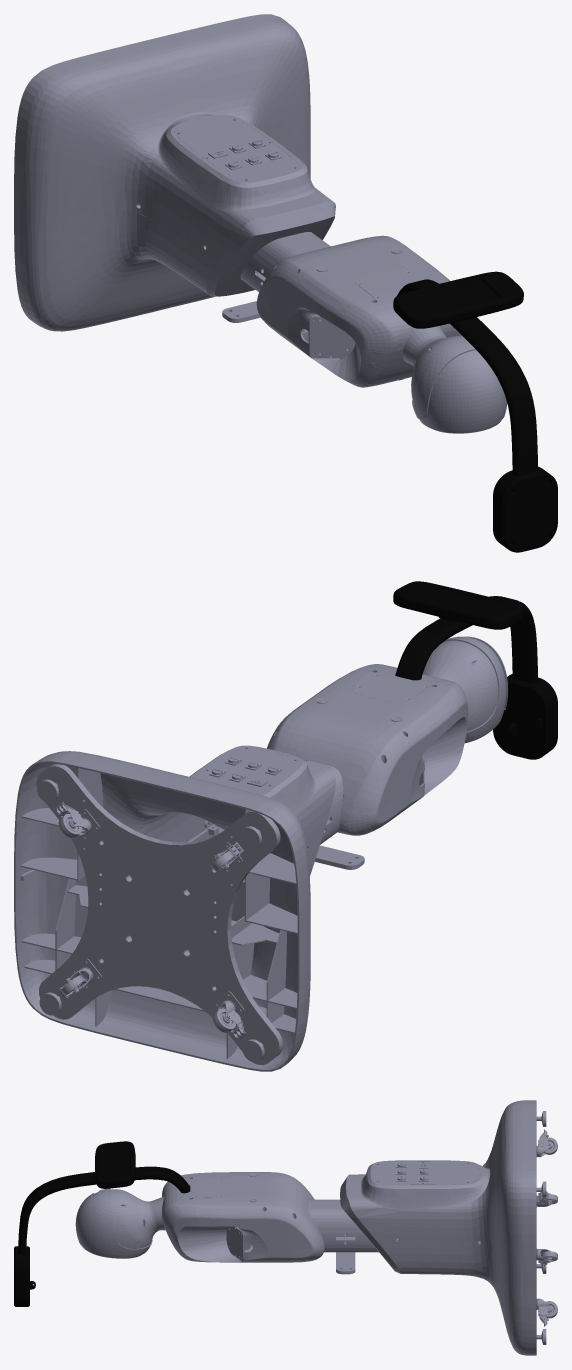
Rendered from body_visuals.obj.
The picture shows the model from 3 angles, top to bottom: view 1: azimuth 30°, elevation 25°; view 2: azimuth 150°, elevation 25°; view 3: azimuth 270°, elevation 25°; orthographic projection. The views are drawn at different scales.
Bounding box in the file's own units: 0.7161 × 0.631 × 1.69.
